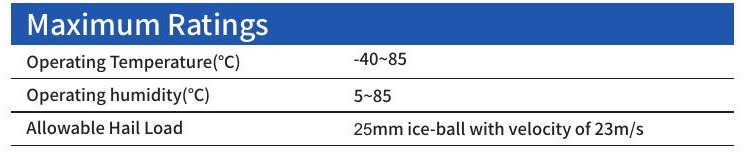table: (7, 39, 744, 156)
table column: (338, 42, 729, 150), (21, 44, 331, 153)
table row: (13, 115, 735, 142), (13, 82, 733, 108), (14, 48, 731, 74)
